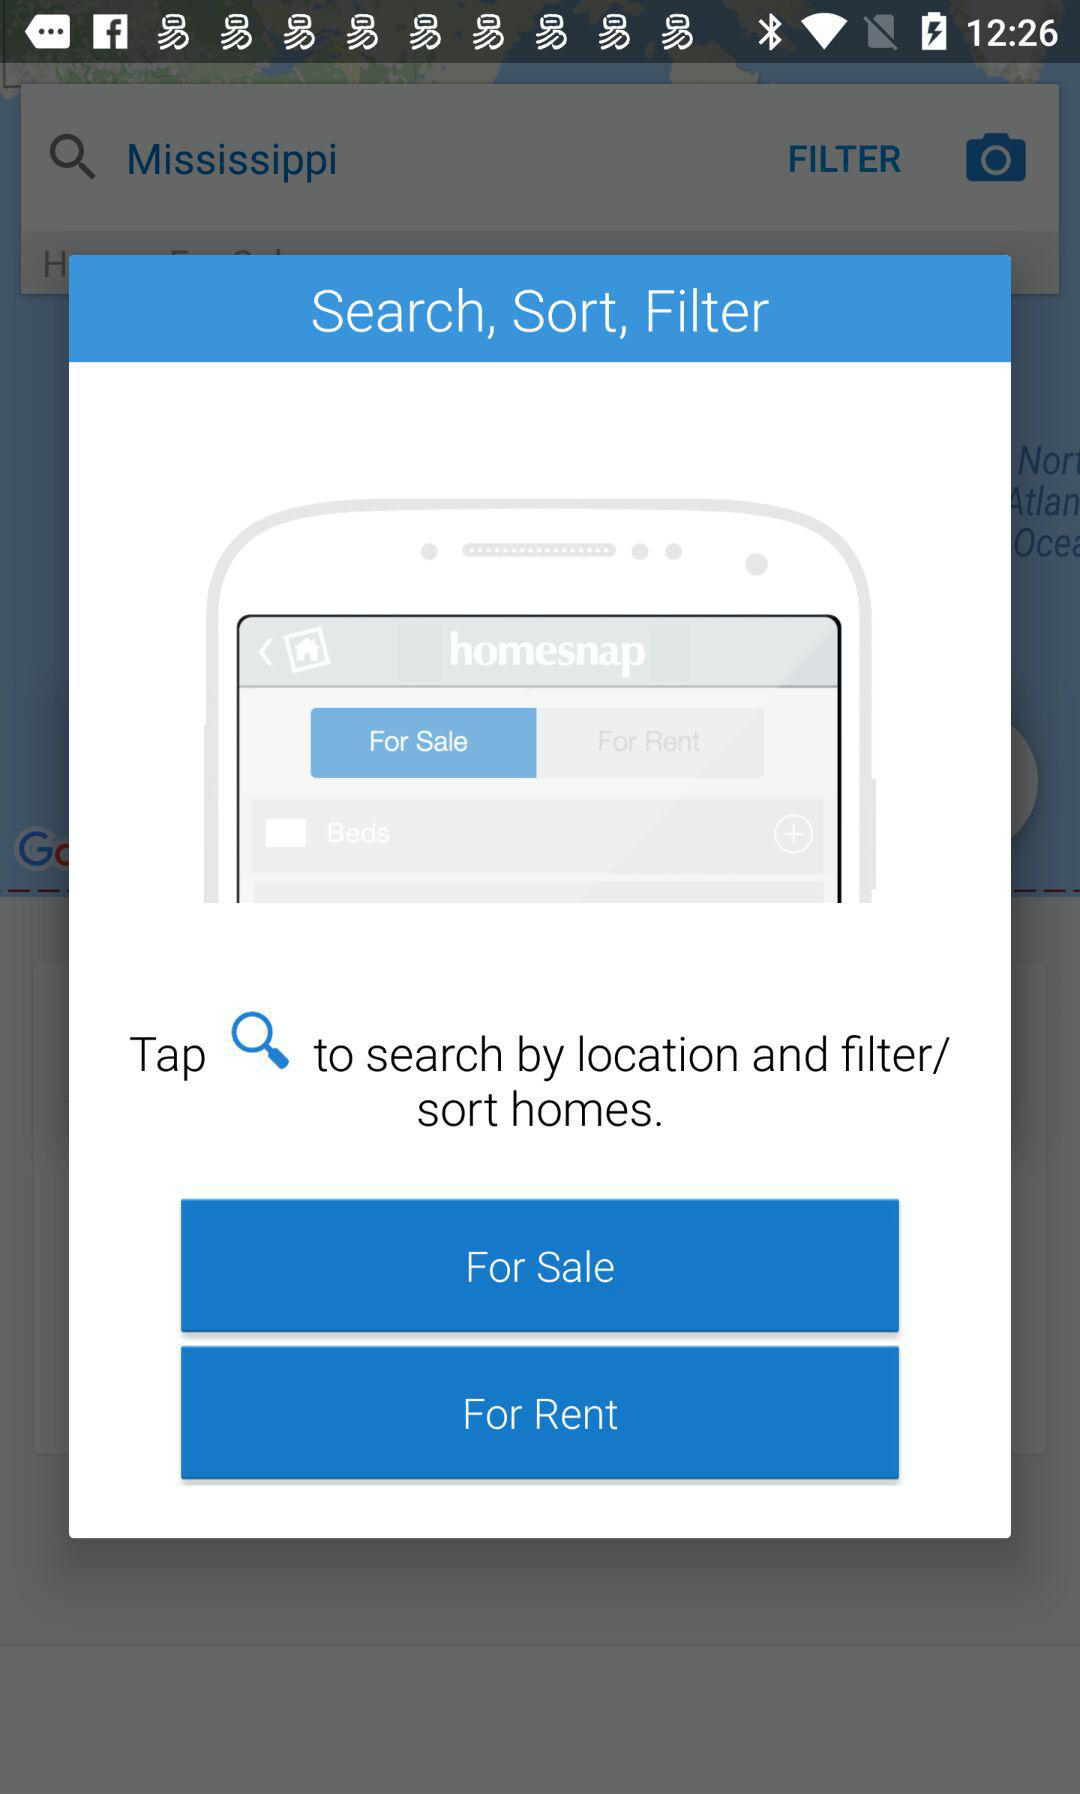Icon: (966, 133, 1027, 183), (50, 133, 97, 182)
Image: (204, 498, 876, 903)
Modal: (69, 255, 1012, 1539)
Text: (129, 1011, 951, 1128), (313, 288, 770, 340), (128, 144, 336, 185), (789, 144, 903, 174)
TextButton: (181, 1345, 899, 1480), (182, 1199, 901, 1333)
UpperTaskBar: (1, 1, 1080, 64)
